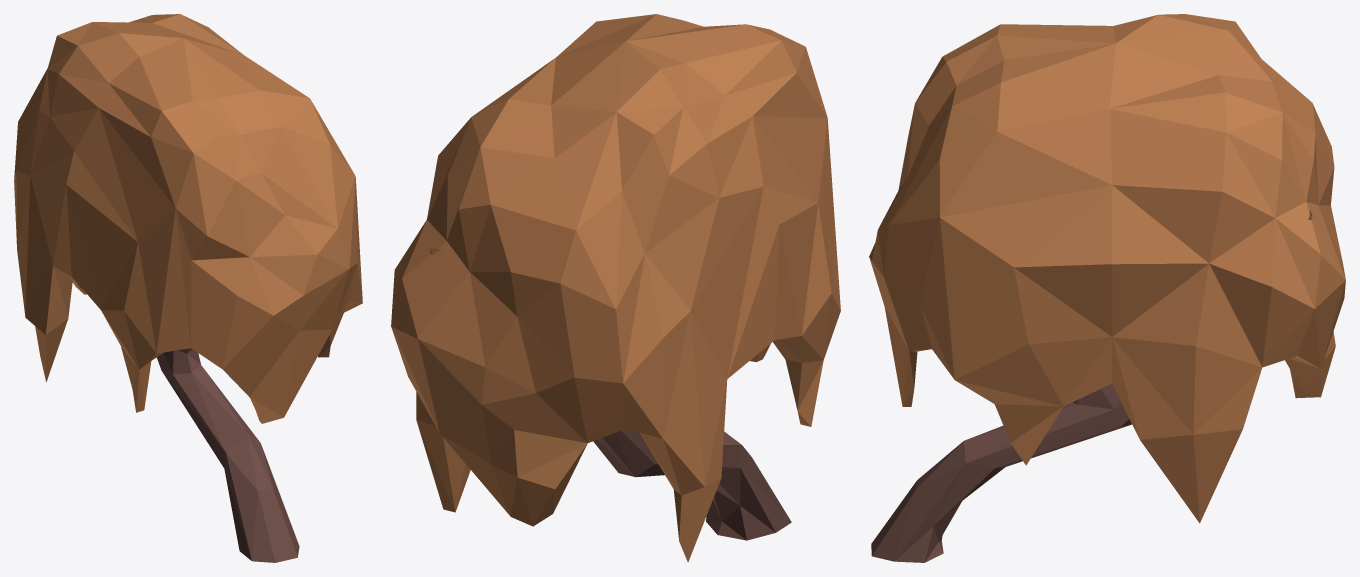
File: Willow_Autumn_3.lod1.glb
3 renders of one model, left to right at view 1: azimuth 30°, elevation 25°; view 2: azimuth 150°, elevation 25°; view 3: azimuth 270°, elevation 25°, orthographic. The views are drawn at different scales.
Visible parts, largest first — view 1: Willow_Autumn_3; view 2: Willow_Autumn_3; view 3: Willow_Autumn_3.
Part boxes in pixels (x1,y1,x2,y2): Willow_Autumn_3: (14, 14, 362, 562); Willow_Autumn_3: (391, 14, 840, 562); Willow_Autumn_3: (869, 14, 1345, 562).
Size of the model in its own units: 1.32 by 2.35 by 1.98.
